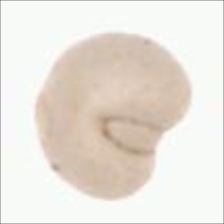L5: (30, 60, 63, 155), (99, 113, 166, 156)
L6: (33, 30, 195, 203)
